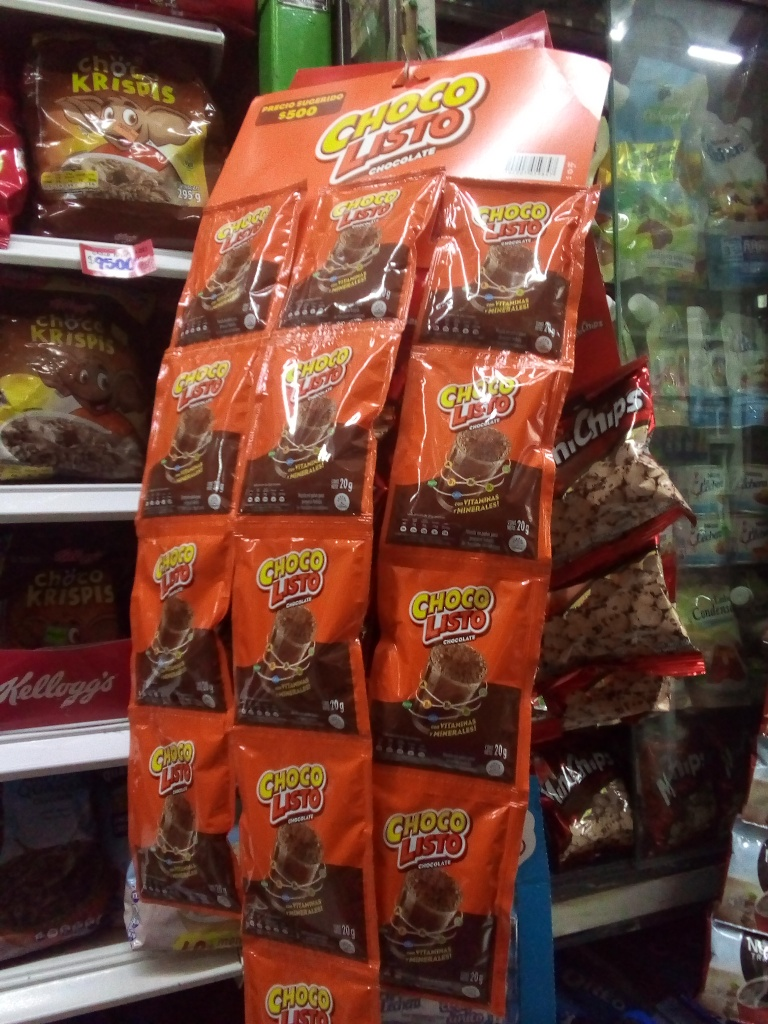COL0170103SOB02000: (171, 191, 300, 335)
